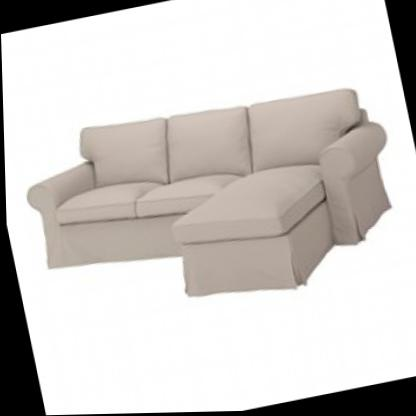Sofa: (1, 41, 415, 347)
